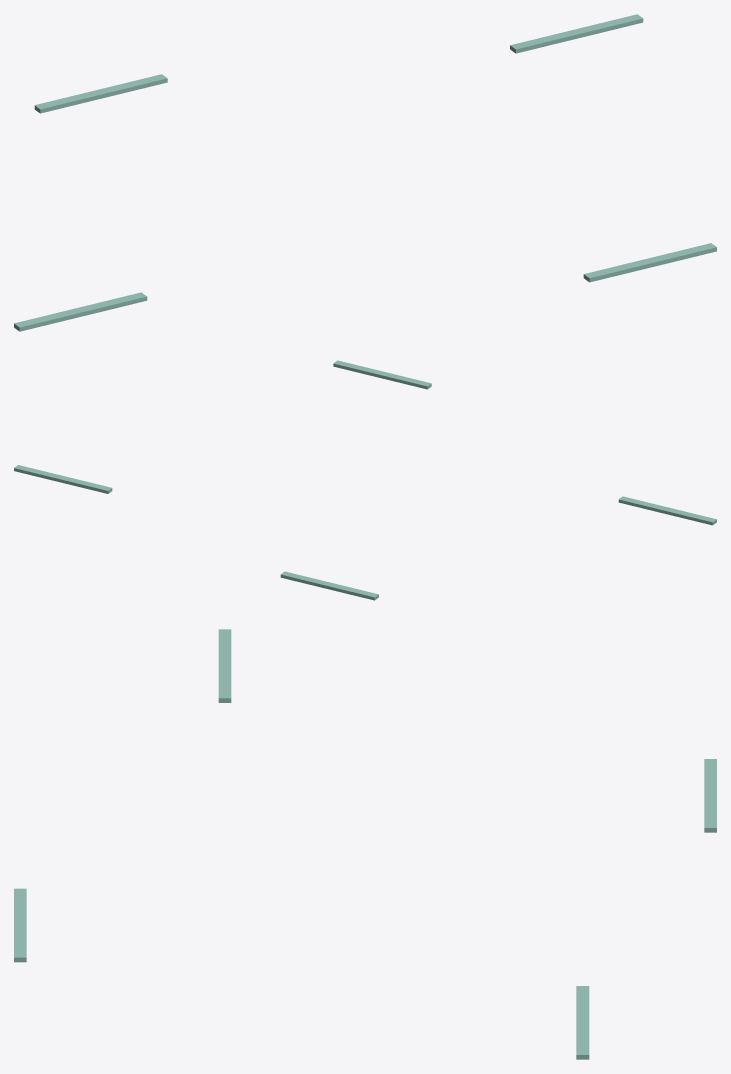
Rendered from water.glb.
3 renders of one model, top to bottom at view 1: azimuth 30°, elevation 25°; view 2: azimuth 150°, elevation 25°; view 3: azimuth 270°, elevation 25°, orthographic. The views are drawn at different scales.
Parts seen in each view (by area): view 1: Cube.008, Cube.007, Cube.005, Cube.006; view 2: Cube.005, Cube.007, Cube.006, Cube.008; view 3: Cube.005, Cube.008, Cube.006, Cube.007.
Boxes of the visible parts, box(x1,y1,x2,y2) form: Cube.008: box(510, 14, 643, 53); Cube.007: box(34, 74, 167, 113); Cube.005: box(14, 292, 147, 331); Cube.006: box(583, 243, 716, 282); Cube.005: box(618, 496, 716, 525); Cube.007: box(280, 571, 378, 600); Cube.006: box(333, 360, 431, 389); Cube.008: box(14, 465, 112, 493); Cube.005: box(218, 629, 231, 702); Cube.008: box(576, 986, 589, 1059); Cube.006: box(14, 888, 26, 962); Cube.007: box(704, 759, 716, 832).
Size of the model in its own units: 1.97 by 0.01 by 1.38.
